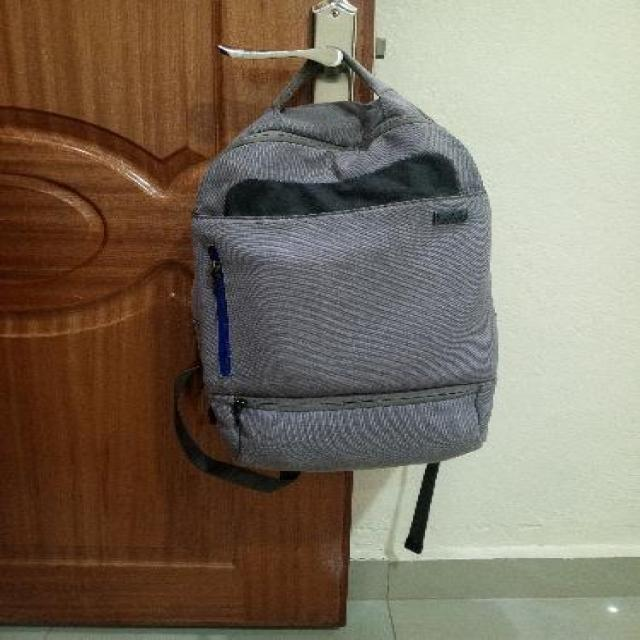canta: (173, 44, 499, 491)
